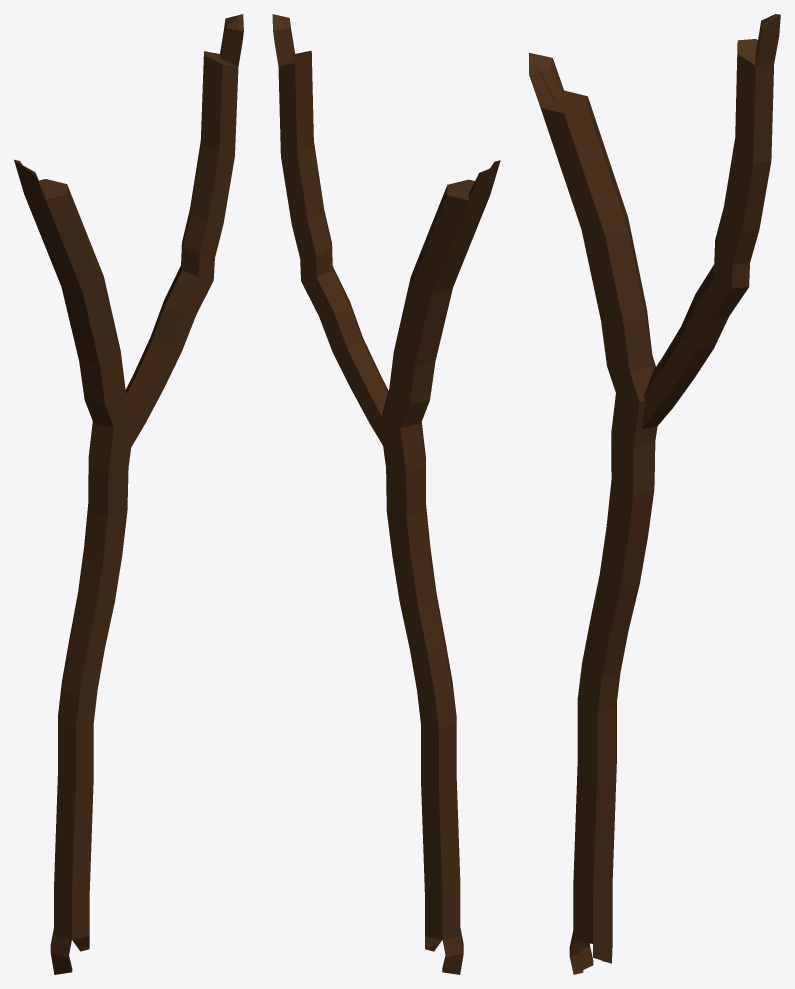
Rendered from Rama.fbx.
3 views of the same model, side by side, from view 1: azimuth 30°, elevation 25°; view 2: azimuth 150°, elevation 25°; view 3: azimuth 330°, elevation 25° (orthographic). The views are drawn at different scales.
Parts seen in each view (by area): view 1: Rama; view 2: Rama; view 3: Rama.
Boxes of the visible parts, <box> form: Rama: <box>14,14,243,974</box>; Rama: <box>272,14,500,974</box>; Rama: <box>529,14,780,974</box>.
Bounding box in the file's own units: 10.67 × 40.79 × 1.73.
